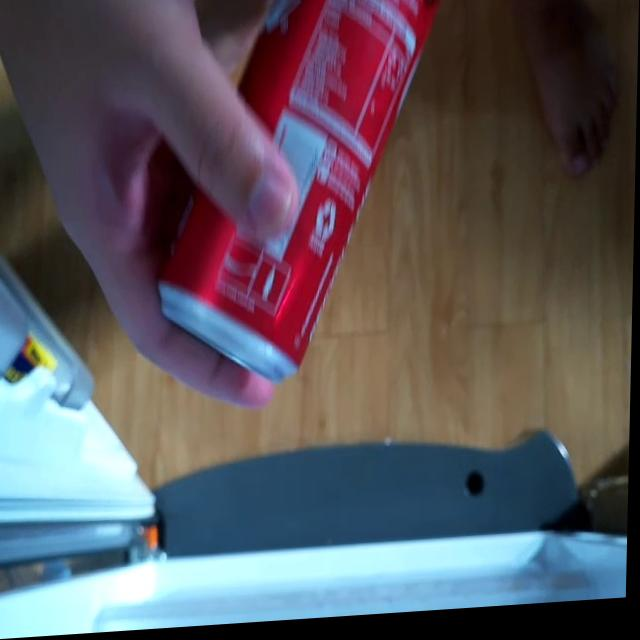coke: (151, 0, 460, 402)
